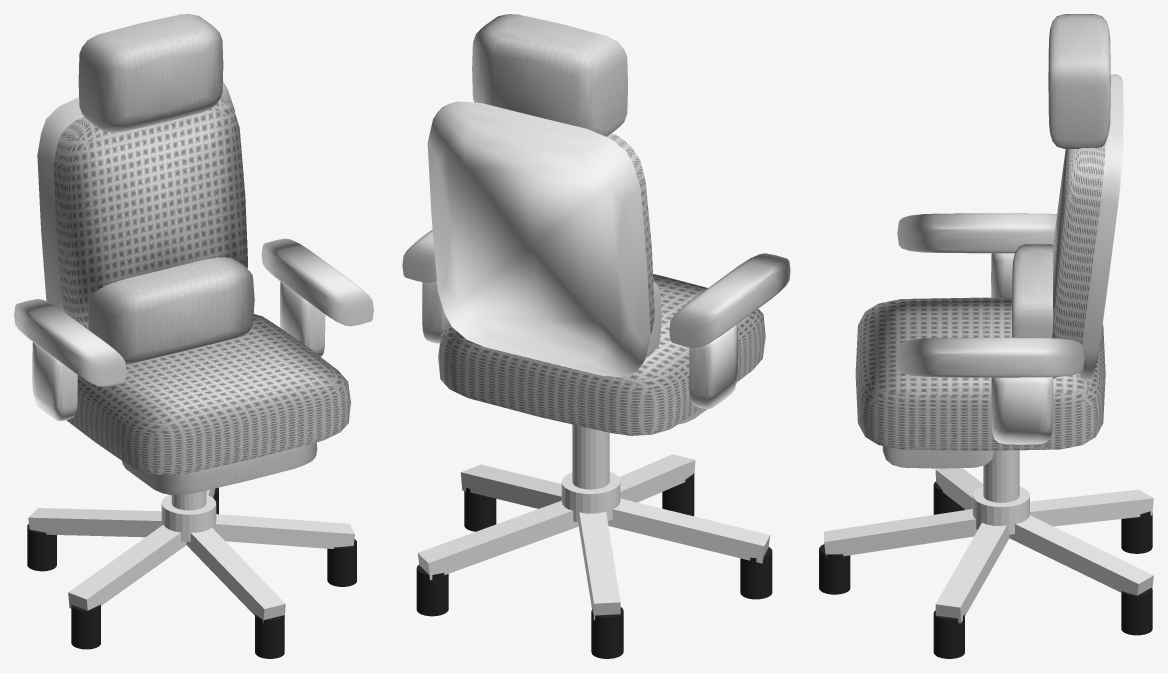
3 views of the same model, side by side, from view 1: azimuth 30°, elevation 25°; view 2: azimuth 150°, elevation 25°; view 3: azimuth 270°, elevation 25° (orthographic). The views are drawn at different scales.
Parts seen in each view (by area): view 1: 2 backrest, 5 seat, 1 headrest, 4 lumbar_pillow, 9 armrest_right, 7 armrest_left, 3 backrest_frame, 21 spoke_5, 6 footrest, 15 spoke_2, 13 spoke_1, 19 spoke_4 (+8 smaller); view 2: 3 backrest_frame, 5 seat, 1 headrest, 7 armrest_left, 17 spoke_3, 21 spoke_5, 8 armrest_support_left, 19 spoke_4, 15 spoke_2, 11 gas_lift, 13 spoke_1, 12 base_hub (+9 smaller); view 3: 5 seat, 1 headrest, 2 backrest, 9 armrest_right, 7 armrest_left, 3 backrest_frame, 17 spoke_3, 13 spoke_1, 10 armrest_support_right, 4 lumbar_pillow, 15 spoke_2, 19 spoke_4 (+10 smaller).
Boxes of the visible parts, x1,y1,x2,y2 form: 2 backrest: (53, 96, 247, 329); 5 seat: (67, 314, 350, 475); 1 headrest: (78, 14, 223, 132); 4 lumbar_pillow: (88, 257, 254, 364); 9 armrest_right: (261, 238, 373, 326); 7 armrest_left: (14, 299, 126, 386); 3 backrest_frame: (37, 81, 234, 312); 21 spoke_5: (68, 525, 186, 610); 6 footrest: (122, 442, 317, 495); 15 spoke_2: (215, 514, 354, 549); 13 spoke_1: (186, 527, 285, 623); 19 spoke_4: (28, 508, 161, 537); 3 backrest_frame: (427, 101, 650, 377); 5 seat: (438, 274, 765, 435); 1 headrest: (472, 14, 627, 136); 7 armrest_left: (669, 253, 790, 347); 17 spoke_3: (418, 500, 578, 580); 21 spoke_5: (607, 498, 770, 563); 8 armrest_support_left: (689, 324, 737, 408); 19 spoke_4: (578, 511, 620, 620); 15 spoke_2: (460, 464, 561, 508); 11 gas_lift: (572, 424, 609, 489); 13 spoke_1: (619, 454, 695, 502); 12 base_hub: (561, 472, 620, 522); 5 seat: (855, 297, 1105, 450); 1 headrest: (1048, 14, 1110, 148); 2 backrest: (1052, 143, 1105, 343); 9 armrest_right: (897, 337, 1084, 377); 7 armrest_left: (897, 213, 1056, 253); 3 backrest_frame: (1078, 74, 1123, 381); 17 spoke_3: (1009, 515, 1153, 595); 13 spoke_1: (824, 509, 977, 557); 10 armrest_support_right: (991, 377, 1053, 444); 4 lumbar_pillow: (1012, 244, 1056, 378); 15 spoke_2: (935, 523, 1009, 623); 19 spoke_4: (1030, 489, 1153, 526).
Bounding box in the file's own units: 0.55 × 1 × 0.55.
Materials: 8 (4 with a texture image).
